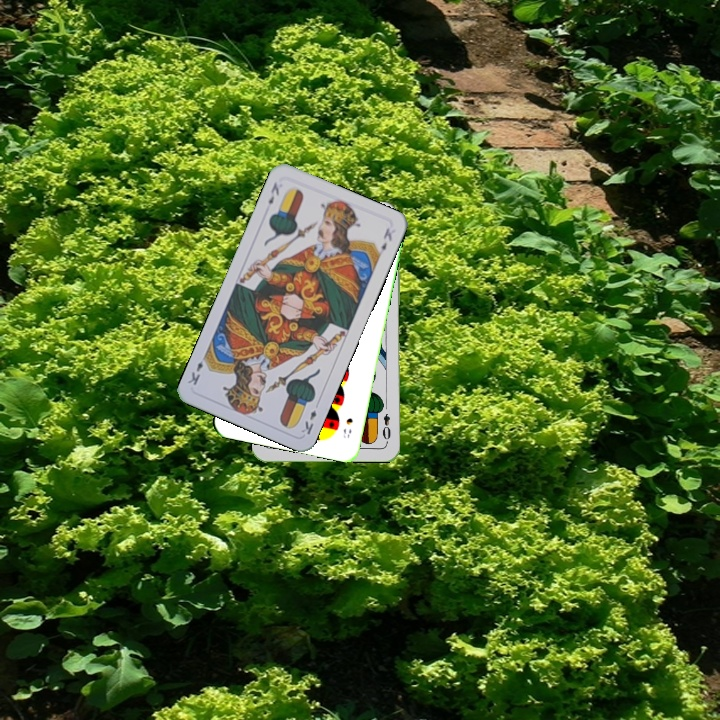EK: (297, 406, 319, 437), (264, 178, 282, 207)
EO: (378, 410, 393, 446)
S8: (339, 414, 355, 440)
